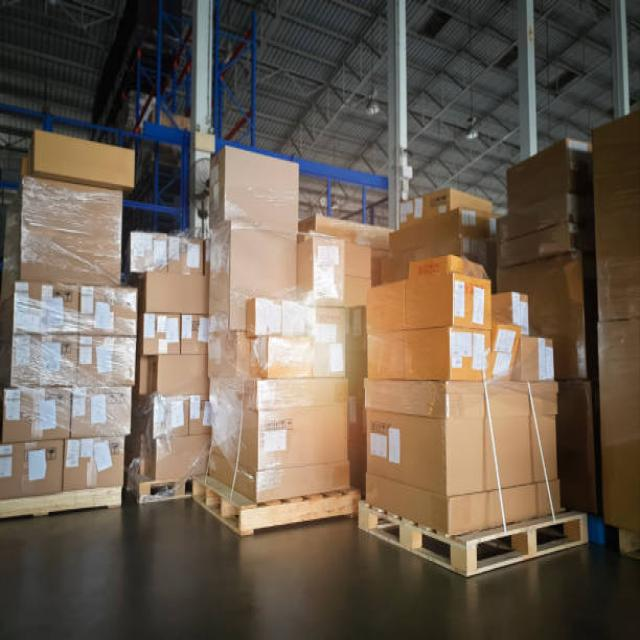Wooden-Pallets: (352, 493, 593, 587), (185, 476, 361, 542), (0, 482, 125, 529)
